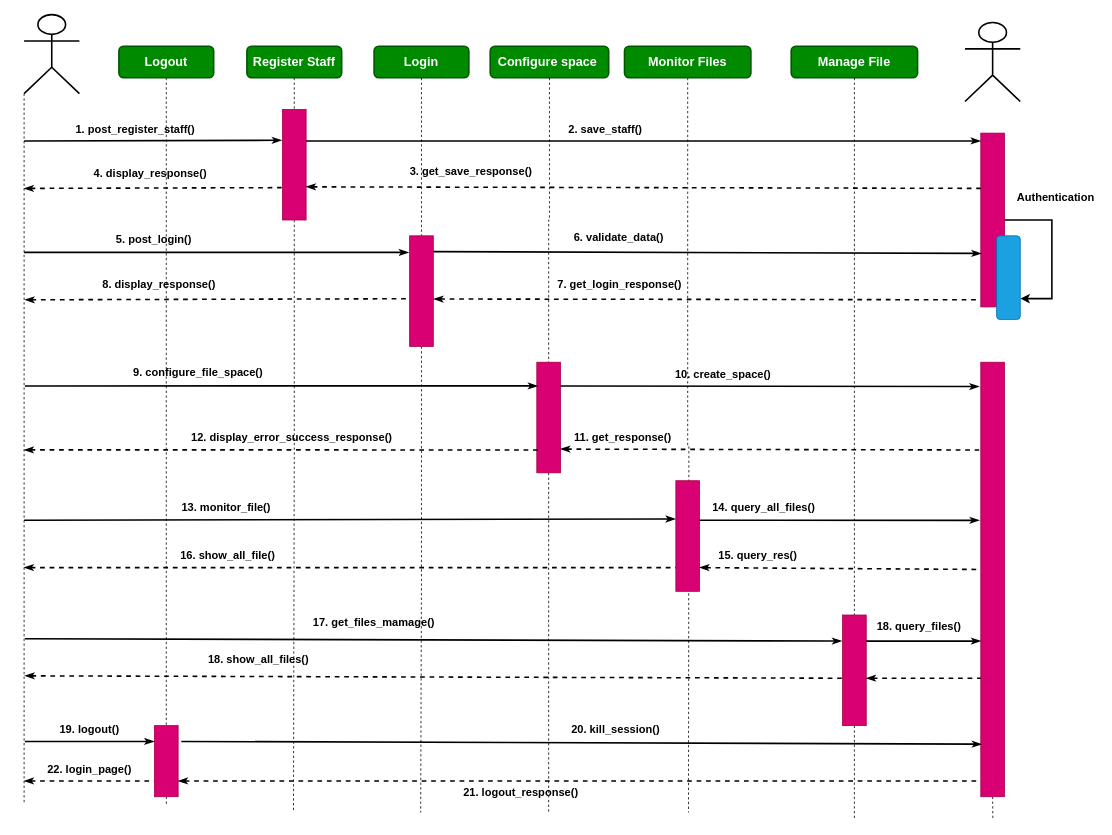
The diagram is 1112 pixels wide and 835 high, and some of its shapes have lost their labels. The centre of each missing label's shape, as x and y in pixels:
Administrator: point (51, 53)
Database: point (992, 61)
